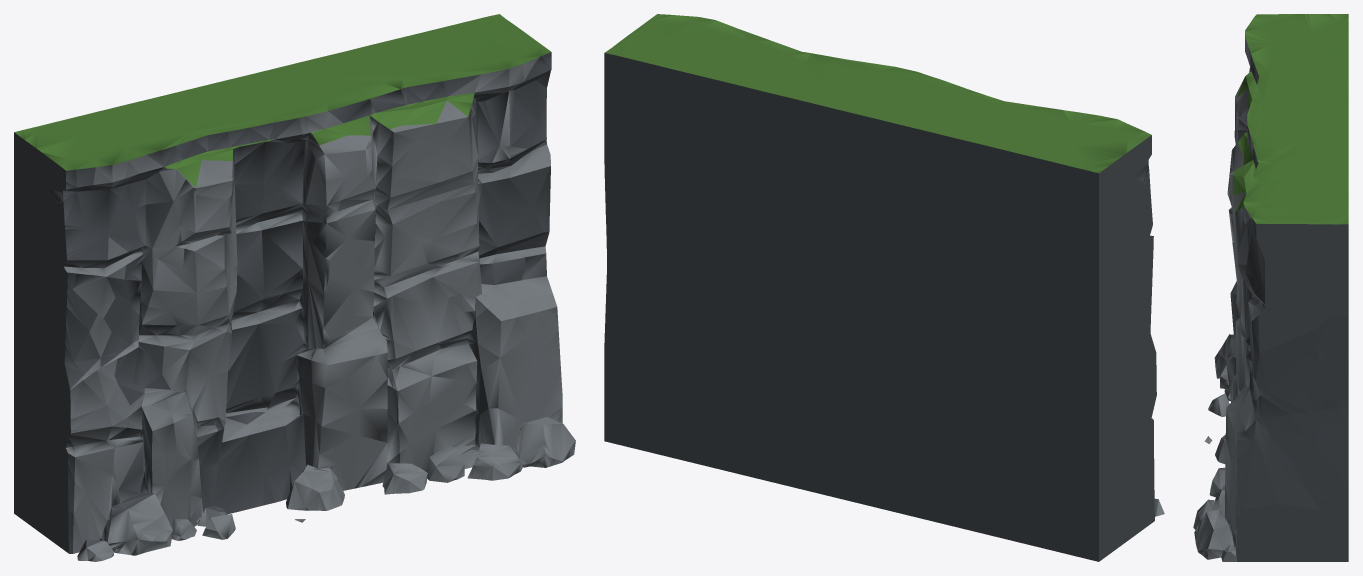
The model's file is mdvl_nature_cliff_01.fbx.
3 renders of one model, left to right at view 1: azimuth 30°, elevation 25°; view 2: azimuth 150°, elevation 25°; view 3: azimuth 270°, elevation 25°, orthographic. The views are drawn at different scales.
Visible parts, largest first — view 1: mdvl_nature_cliff_01; view 2: mdvl_nature_cliff_01; view 3: mdvl_nature_cliff_01.
Boxes of the visible parts, left/top/right/bottom form: mdvl_nature_cliff_01: left=14, top=14, right=575, bottom=561; mdvl_nature_cliff_01: left=604, top=14, right=1164, bottom=561; mdvl_nature_cliff_01: left=1193, top=14, right=1348, bottom=561.
Size of the model in its own units: 4 by 3.01 by 1.25.
